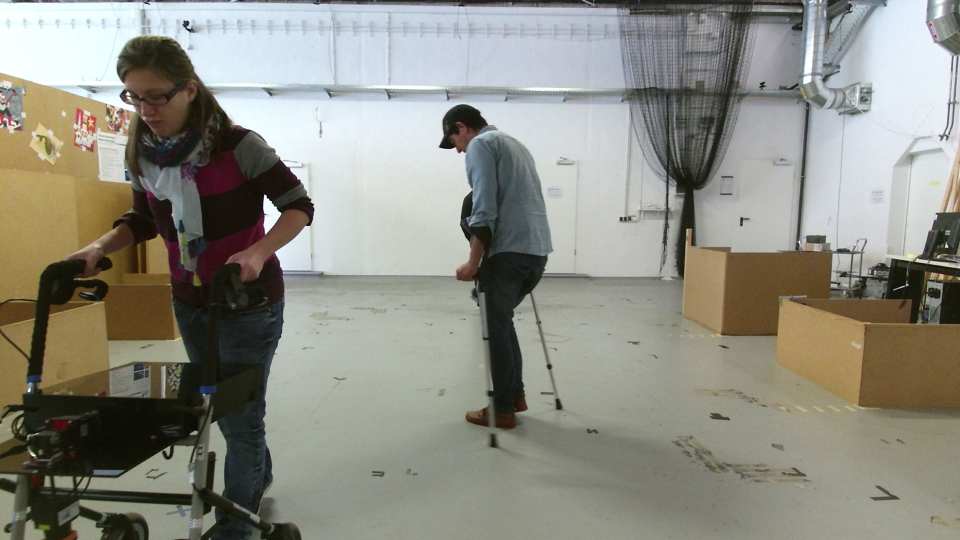crutches: (440, 98, 563, 448)
